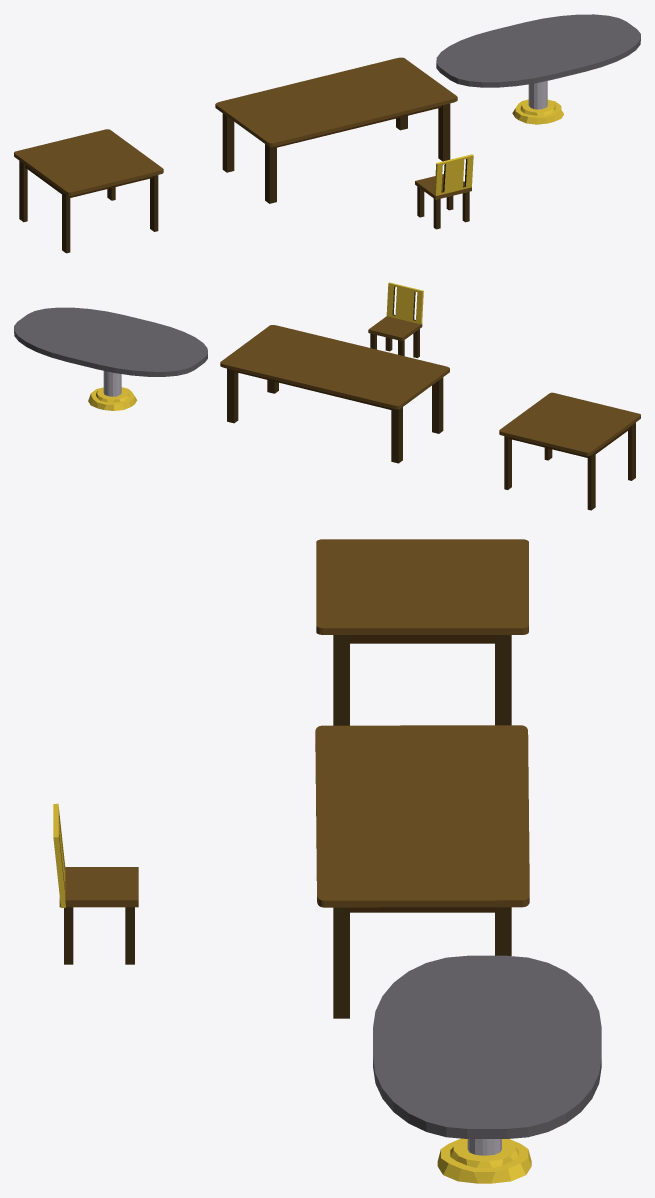
The model's file is table1.fbx.
3 renders of one model, top to bottom at view 1: azimuth 30°, elevation 25°; view 2: azimuth 150°, elevation 25°; view 3: azimuth 270°, elevation 25°, orthographic. The views are drawn at different scales.
Visible parts, largest first — view 1: Cube.002, Cube.011, Cube.007, Cube.001; view 2: Cube.002, Cube.011, Cube.007, Cube.001; view 3: Cube.002, Cube.011, Cube.007, Cube.001.
Part boxes in pixels (<box>): Cube.002: <box>215,57,457,203</box>; Cube.011: <box>436,14,640,124</box>; Cube.007: <box>14,129,163,253</box>; Cube.001: <box>415,154,473,229</box>; Cube.002: <box>220,325,449,463</box>; Cube.011: <box>14,307,207,410</box>; Cube.007: <box>499,392,640,510</box>; Cube.001: <box>368,282,423,357</box>; Cube.002: <box>315,725,529,1018</box>; Cube.011: <box>373,955,601,1183</box>; Cube.007: <box>316,539,528,725</box>; Cube.001: <box>53,803,138,964</box>.
Size of the model in its own units: 2402 by 322 by 988.
